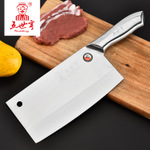knief: (19, 8, 144, 141)
